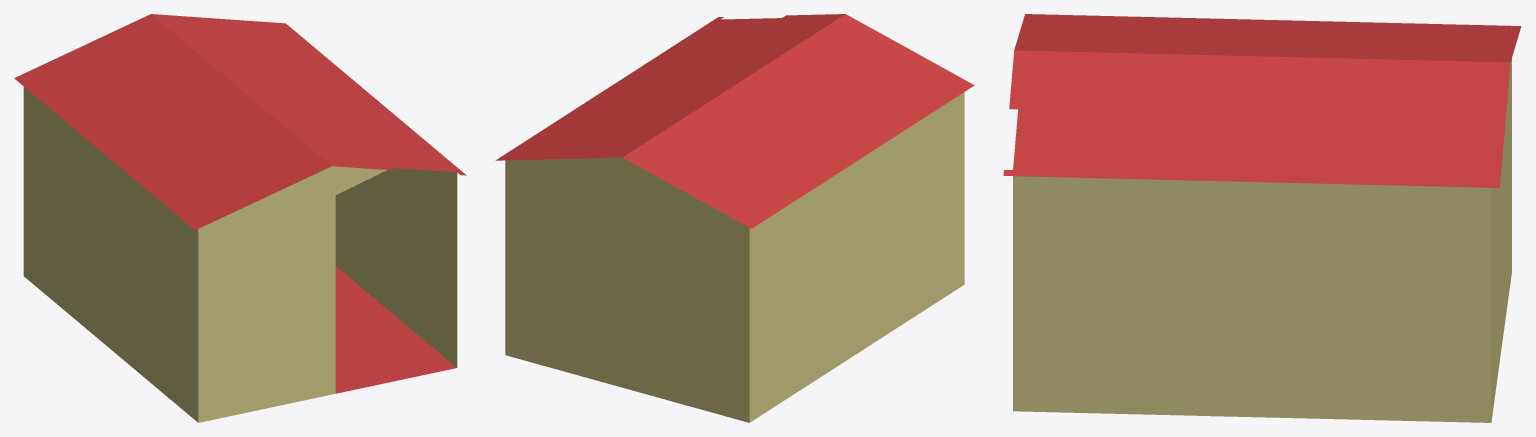
3 views of the same model, side by side, from view 1: azimuth 30°, elevation 25°; view 2: azimuth 150°, elevation 25°; view 3: azimuth 270°, elevation 25° (orthographic). The views are drawn at different scales.
Bounding box in the file's own units: 11.18 × 14.36 × 8.75.
